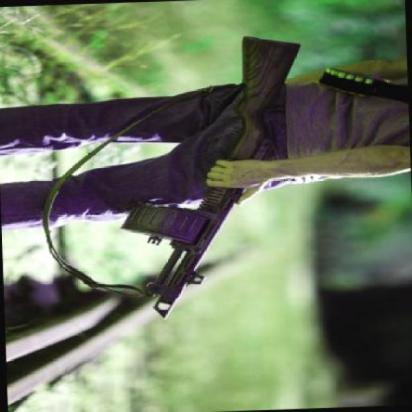Gun: (99, 32, 328, 319)
